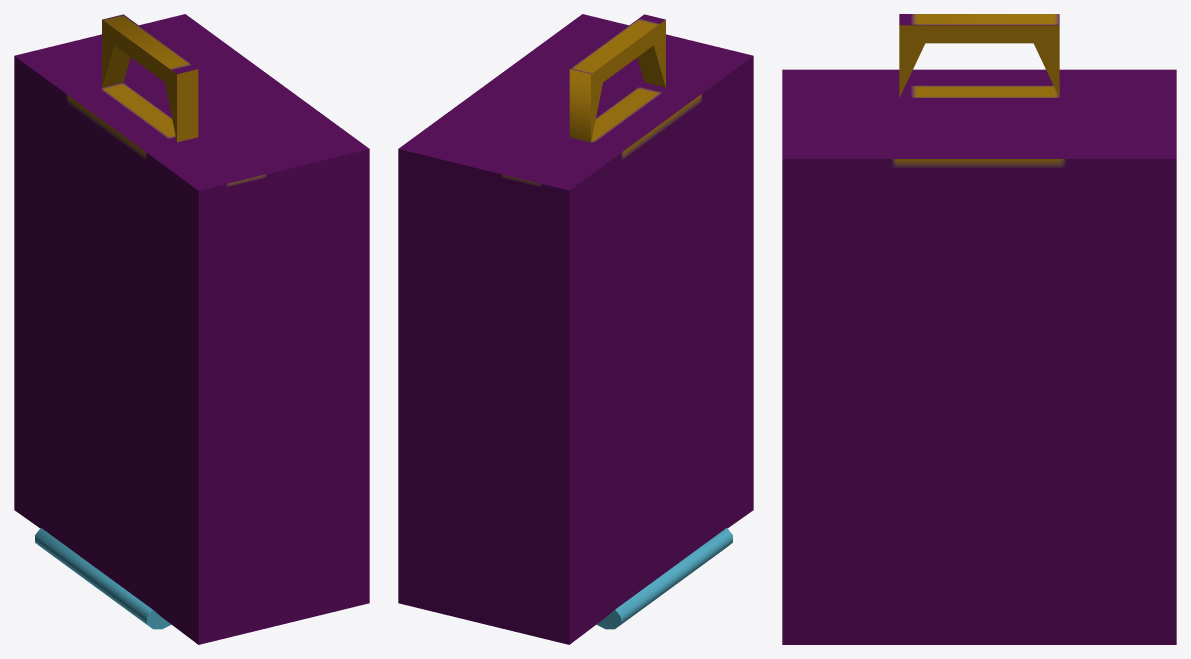
File: lounge2.fbx
3 renders of one model, left to right at view 1: azimuth 30°, elevation 25°; view 2: azimuth 150°, elevation 25°; view 3: azimuth 270°, elevation 25°, orthographic. The views are drawn at different scales.
Parts seen in each view (by area): view 1: lounge1; view 2: lounge1; view 3: lounge1.
Part boxes in pixels (x1,y1,x2,y2): lounge1: (14,14,369,644); lounge1: (398,14,753,644); lounge1: (782,14,1176,644).
Bounding box in the file's own units: 22.15 × 60.49 × 37.92.
